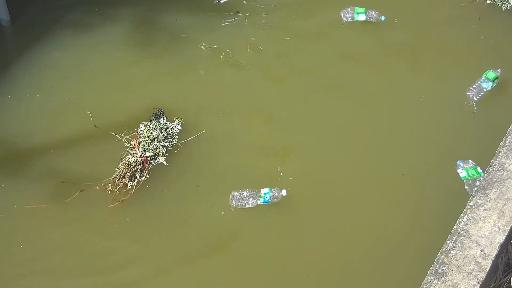plastic: (220, 185, 292, 217), (466, 66, 505, 101), (339, 4, 395, 27), (455, 158, 495, 183)
twig: (61, 94, 219, 218), (476, 0, 512, 9)
